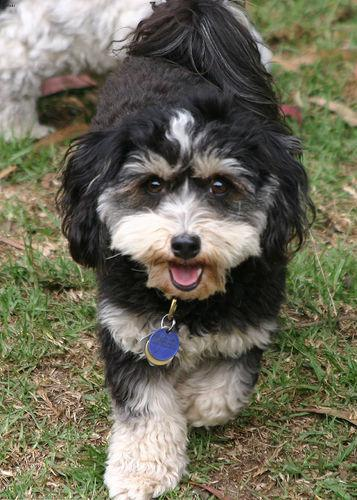dog-havanese: (64, 103, 298, 299)
